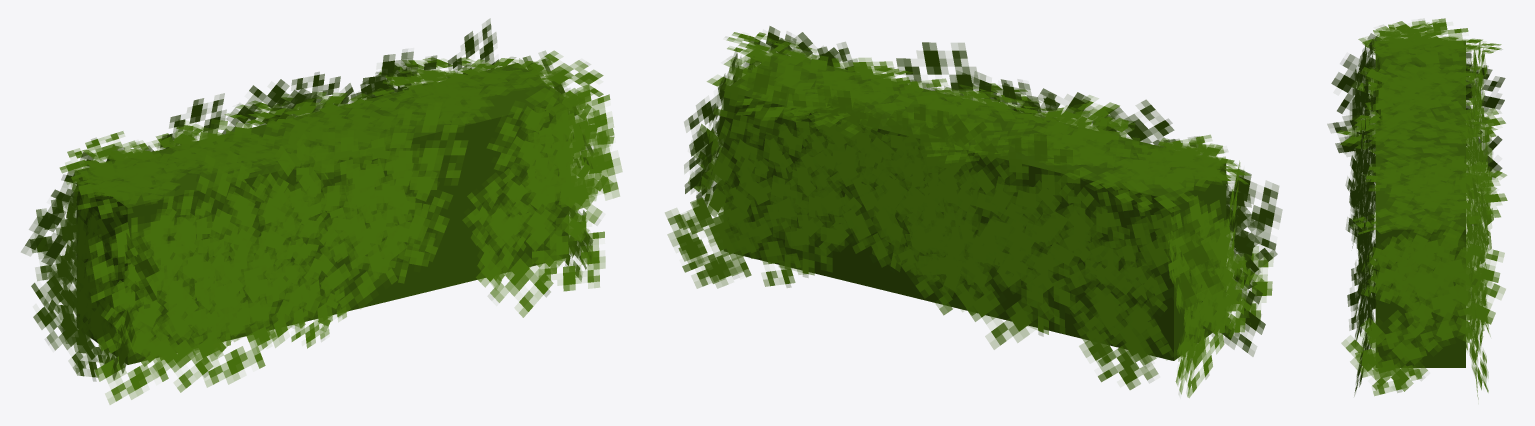
Rendered from hedge_long.glb.
3 renders of one model, left to right at view 1: azimuth 30°, elevation 25°; view 2: azimuth 150°, elevation 25°; view 3: azimuth 270°, elevation 25°, orthographic. The views are drawn at different scales.
Visible parts, largest first — view 1: hedge_long_Leaf_Hedge, hedge_long_Core_Hedge; view 2: hedge_long_Leaf_Hedge, hedge_long_Core_Hedge; view 3: hedge_long_Leaf_Hedge, hedge_long_Core_Hedge.
Boxes of the visible parts, x1,y1,x2,y2 form: hedge_long_Leaf_Hedge: (21,18,622,404); hedge_long_Core_Hedge: (76,63,568,364); hedge_long_Leaf_Hedge: (665,26,1282,397); hedge_long_Core_Hedge: (723,53,1226,360); hedge_long_Leaf_Hedge: (1327,18,1507,399); hedge_long_Core_Hedge: (1375,40,1465,367).
Size of the model in its own units: 4.91 by 2.21 by 1.77.
2 materials, 1 textured.
